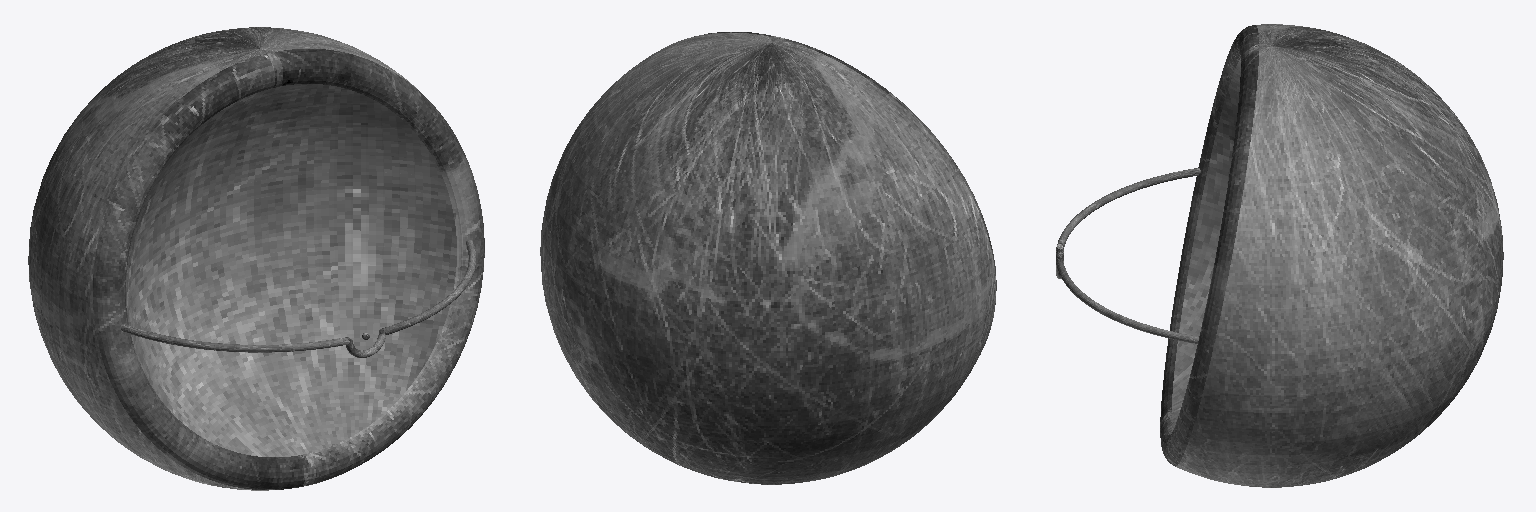
The picture shows the model from 3 angles: view 1: azimuth 30°, elevation 25°; view 2: azimuth 150°, elevation 25°; view 3: azimuth 270°, elevation 25°; orthographic projection.
Visible parts, largest first — view 1: navballHousing; view 2: navballHousing; view 3: navballHousing.
Part boxes in pixels (left/top/right/bottom): navballHousing: left=28, top=27, right=484, bottom=490; navballHousing: left=540, top=32, right=996, bottom=484; navballHousing: left=1056, top=24, right=1503, bottom=487.
Bounding box in the file's own units: 1.2 × 1.2 × 1.16.
1 materials, 1 textured.